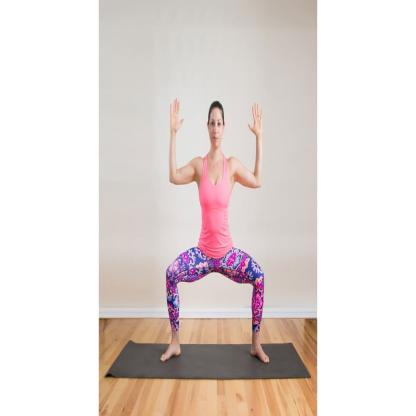godness: (158, 90, 273, 369)
